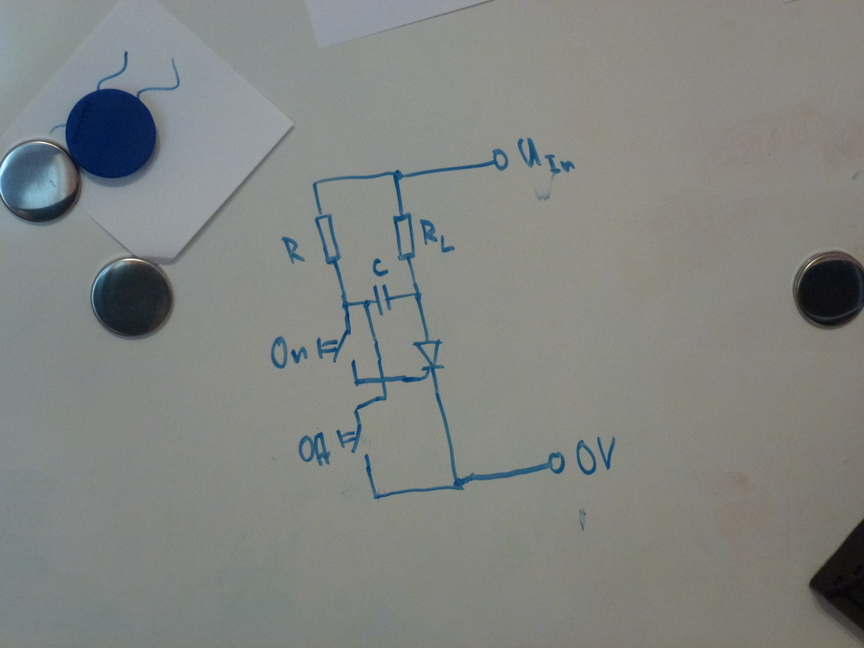capacitor.unpolarized: (372, 284, 393, 316)
crossover: (377, 374, 391, 386)
junction: (450, 476, 466, 493), (392, 169, 404, 182), (371, 490, 382, 502), (412, 290, 423, 301), (340, 300, 351, 310), (361, 299, 371, 308), (310, 178, 320, 187), (353, 377, 362, 387), (351, 405, 361, 413), (381, 393, 389, 402)
resistor: (314, 211, 342, 265), (392, 211, 417, 262)
switch: (316, 329, 357, 364), (336, 424, 371, 457)
terminal: (546, 450, 567, 475), (491, 147, 510, 171)
text: (517, 137, 576, 174), (575, 436, 617, 475), (269, 335, 309, 369), (418, 218, 456, 253), (297, 431, 331, 466), (281, 235, 306, 264), (371, 258, 389, 277)
thyristor: (412, 338, 446, 383)
